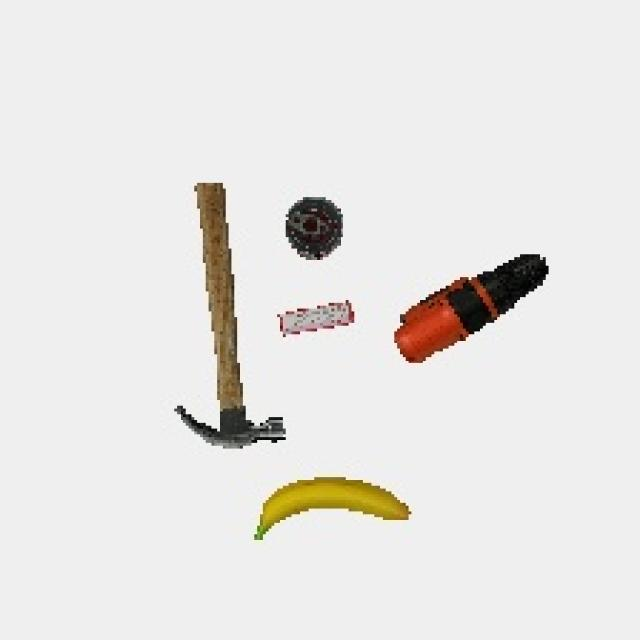Banana: (244, 469, 418, 558)
GelatinBox: (271, 294, 363, 349)
PowerDrill: (385, 233, 557, 378)
TomatoSoupCan: (278, 188, 356, 268)
